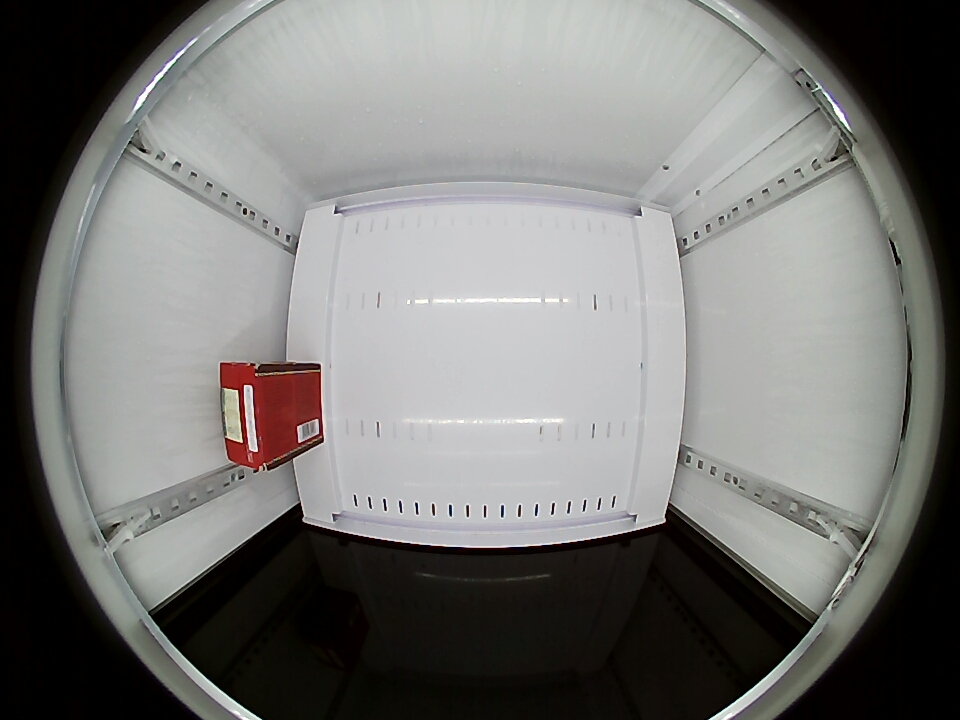haoliyou: (221, 362, 297, 471)
